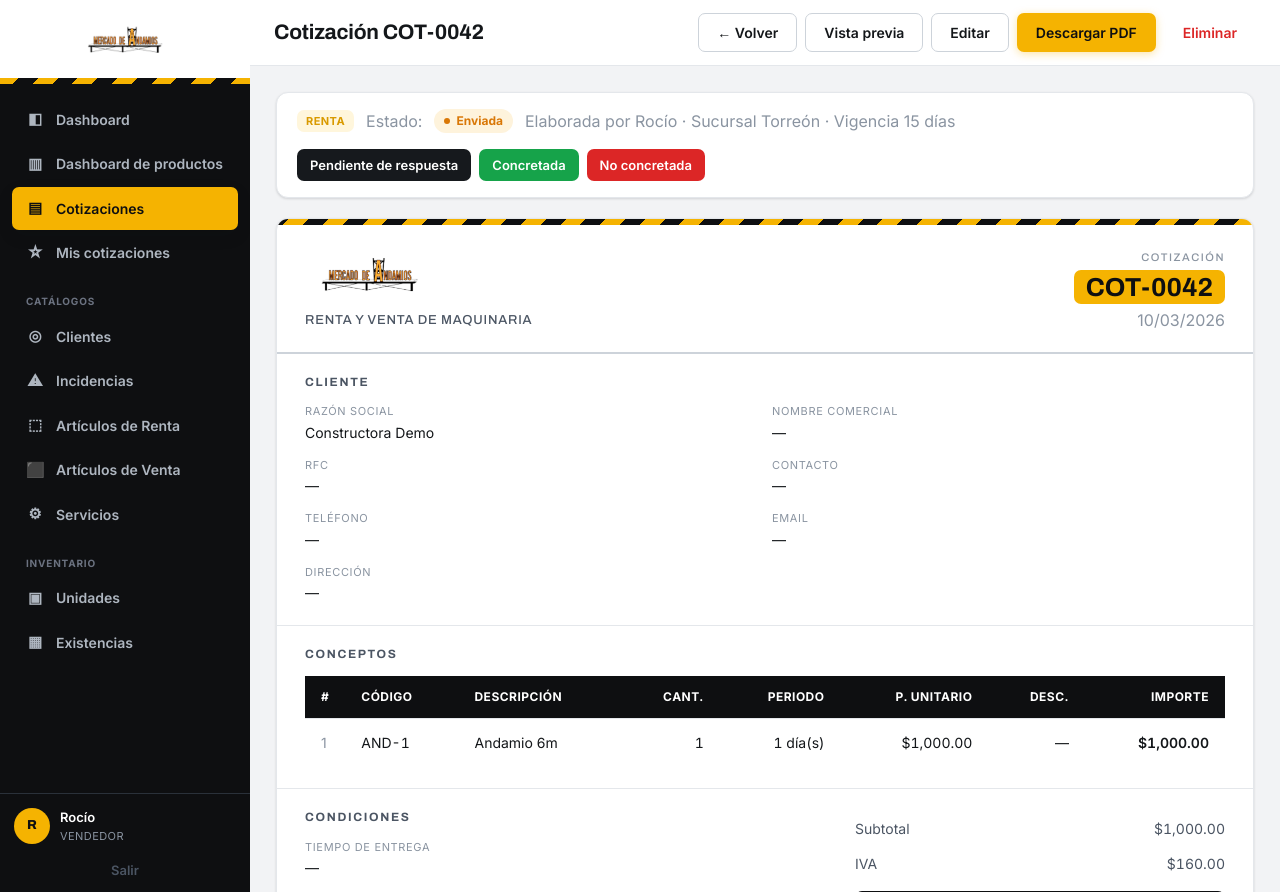
CotizacionDetalle — marcar Concretada › el número de factura es obligatorio: "Confirmar" arranca deshabilitado
Click the button "Concretada": (529, 165) 479,149 -> 579,181
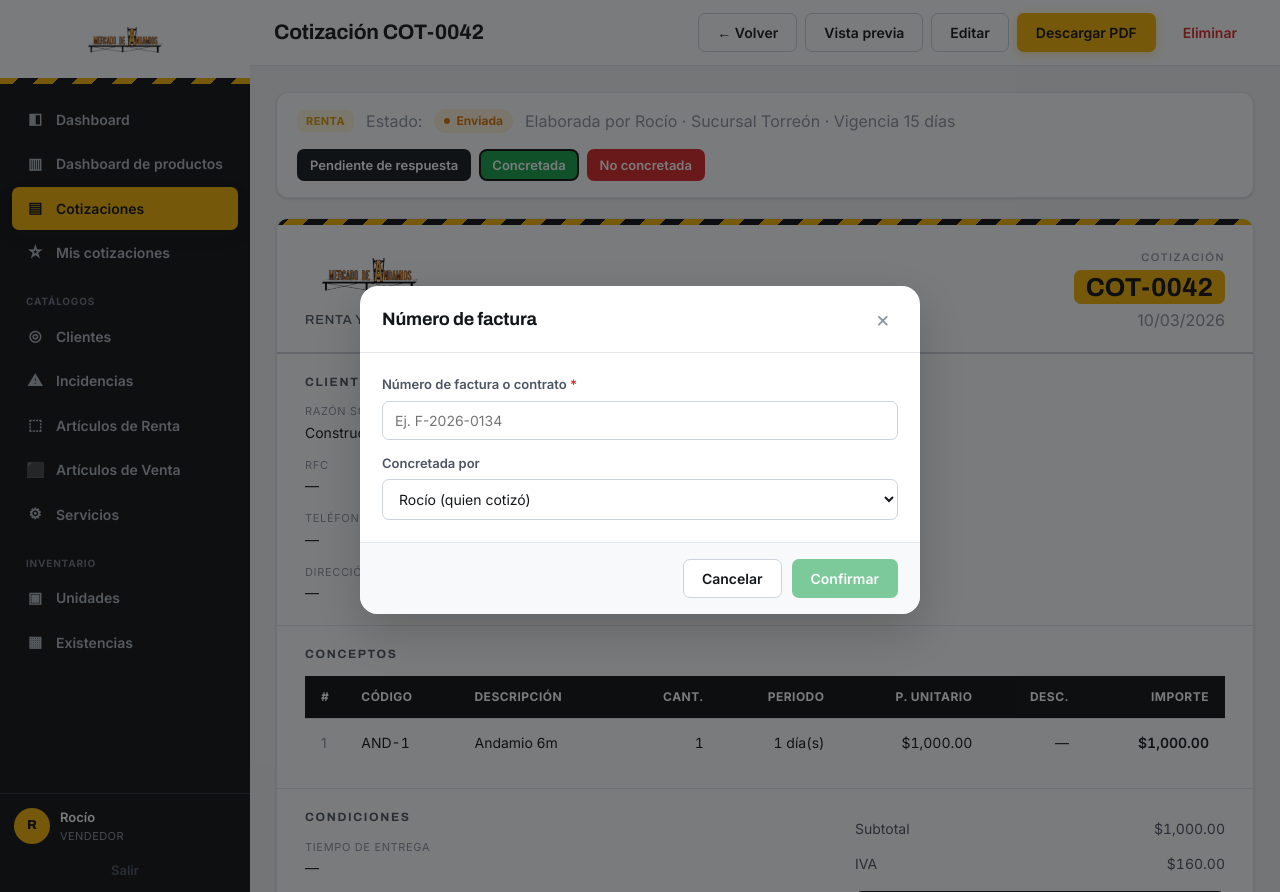
Expected: the heading "Número de factura" is shown, 382,309 -> 537,329
Expected: the button "Confirmar" is disabled, 792,559 -> 898,598
